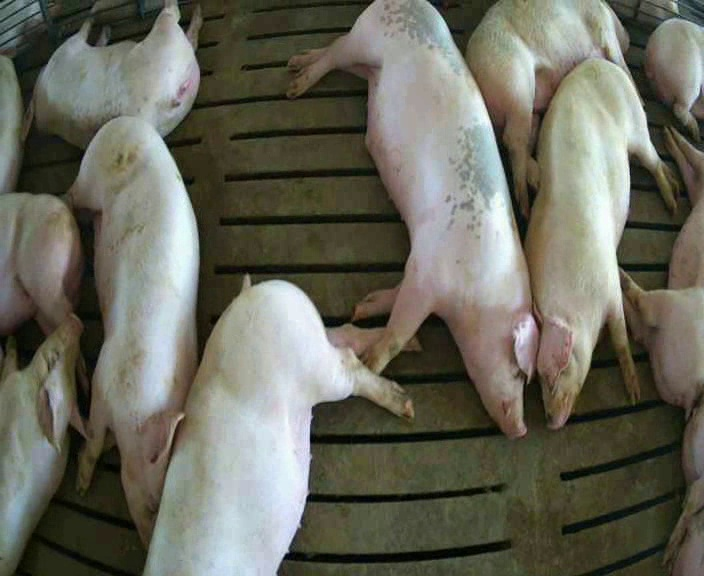pig: (287, 2, 537, 436), (70, 116, 198, 543), (466, 2, 628, 217), (22, 3, 201, 148), (621, 127, 703, 412), (0, 314, 87, 574), (645, 18, 703, 140)
